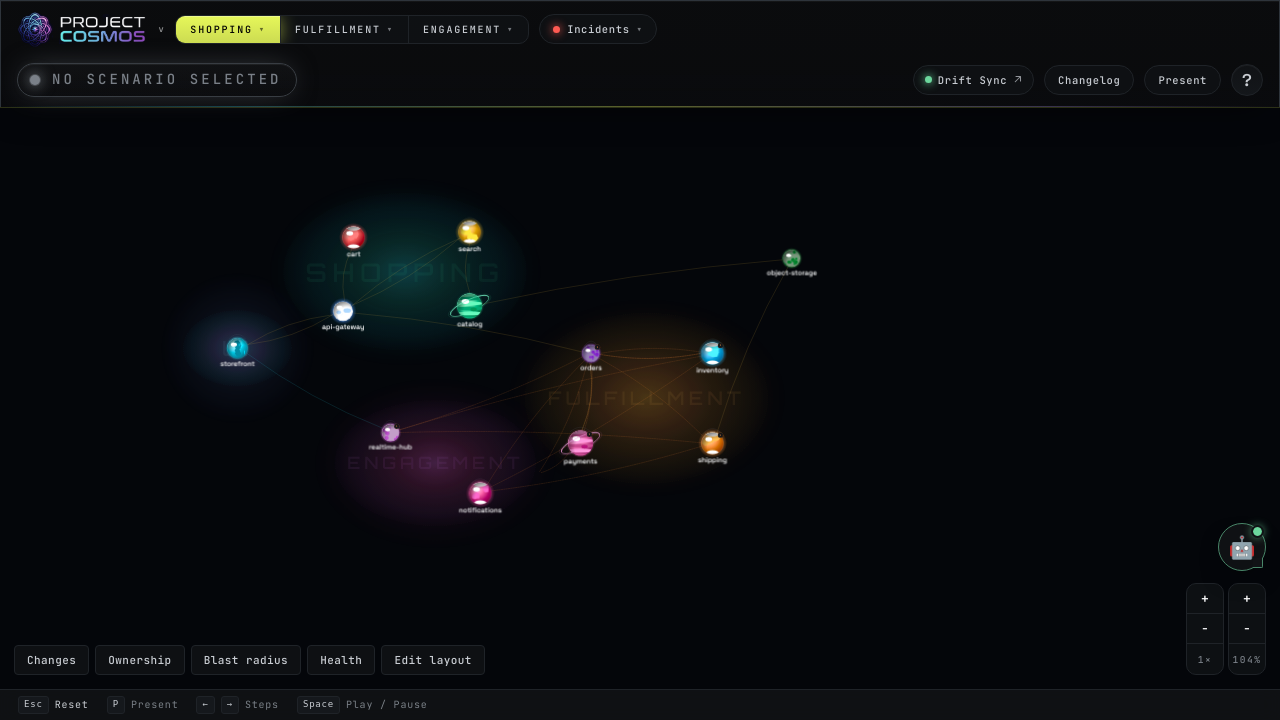
Test: Chat layout on desktop › reopening from the tab closes the step panel while the scenario keeps playing
The width and height of the screenshot is (1280, 720).
Click the button named "Open the agent chat" at [1242, 547], box [1218, 523, 1266, 571]
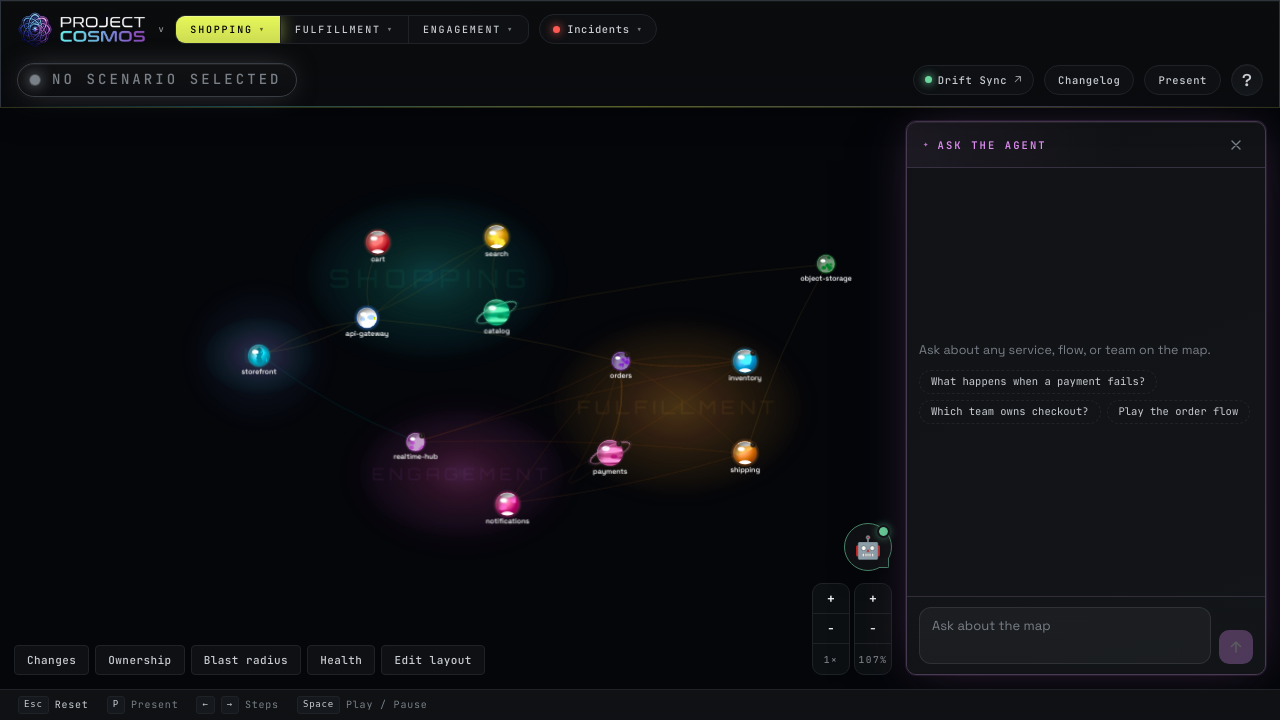
Type "Show me the order flow" into the text box named "Your question" at [1065, 636], box [919, 607, 1211, 664]
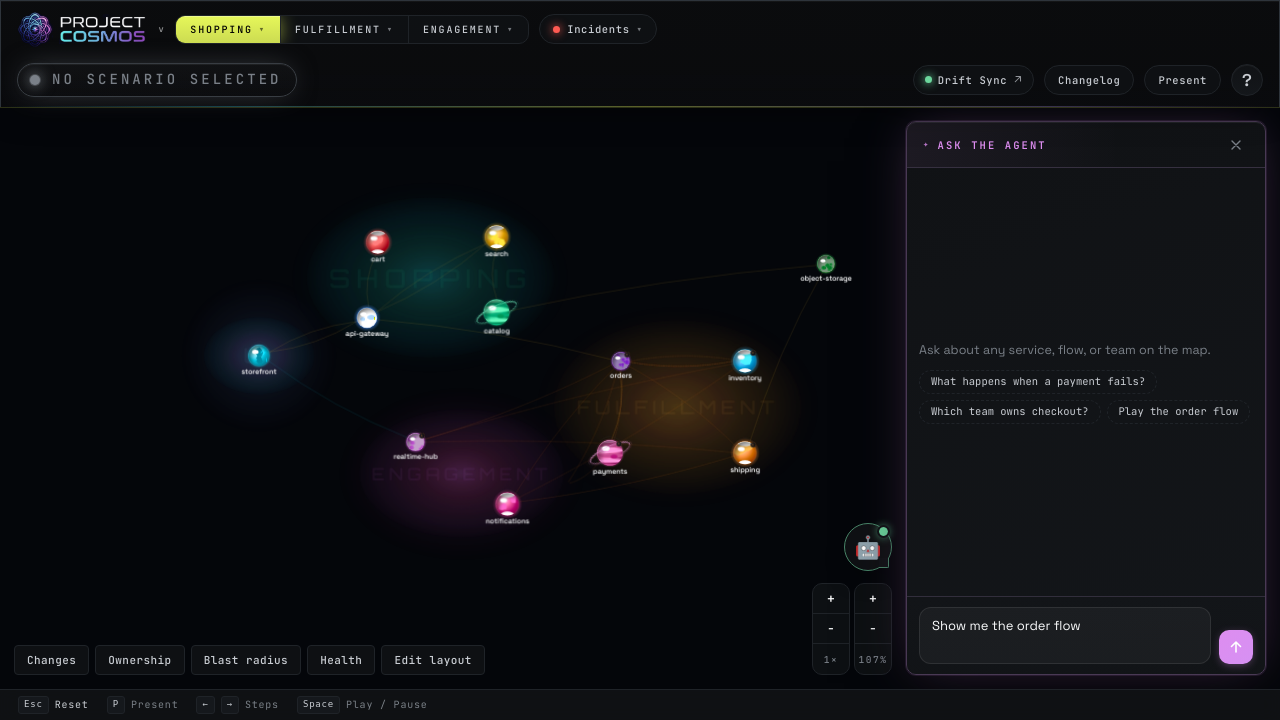
Click the button named "Send" at [1236, 647], box [1219, 630, 1253, 664]
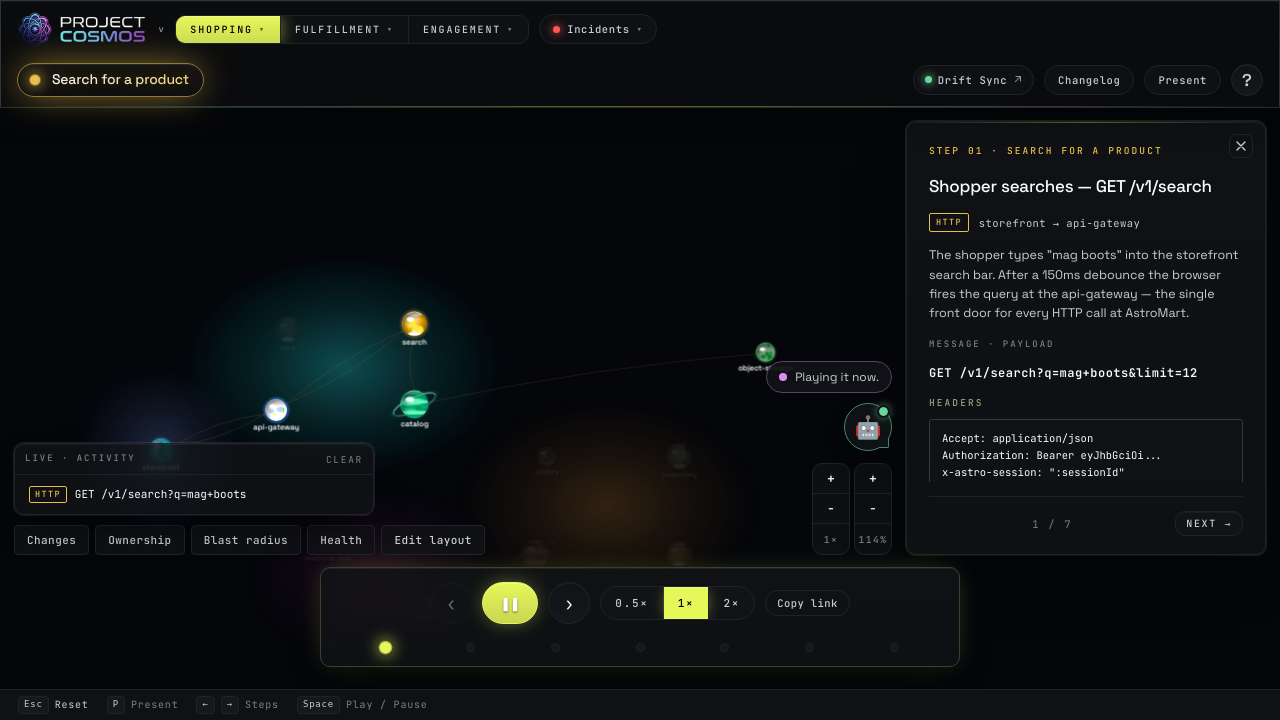
expect the button with class "lc-chat-tab" is shown: met
Click the button with aria-label "Reopen the agent chat" at [829, 377], box [766, 361, 892, 393]
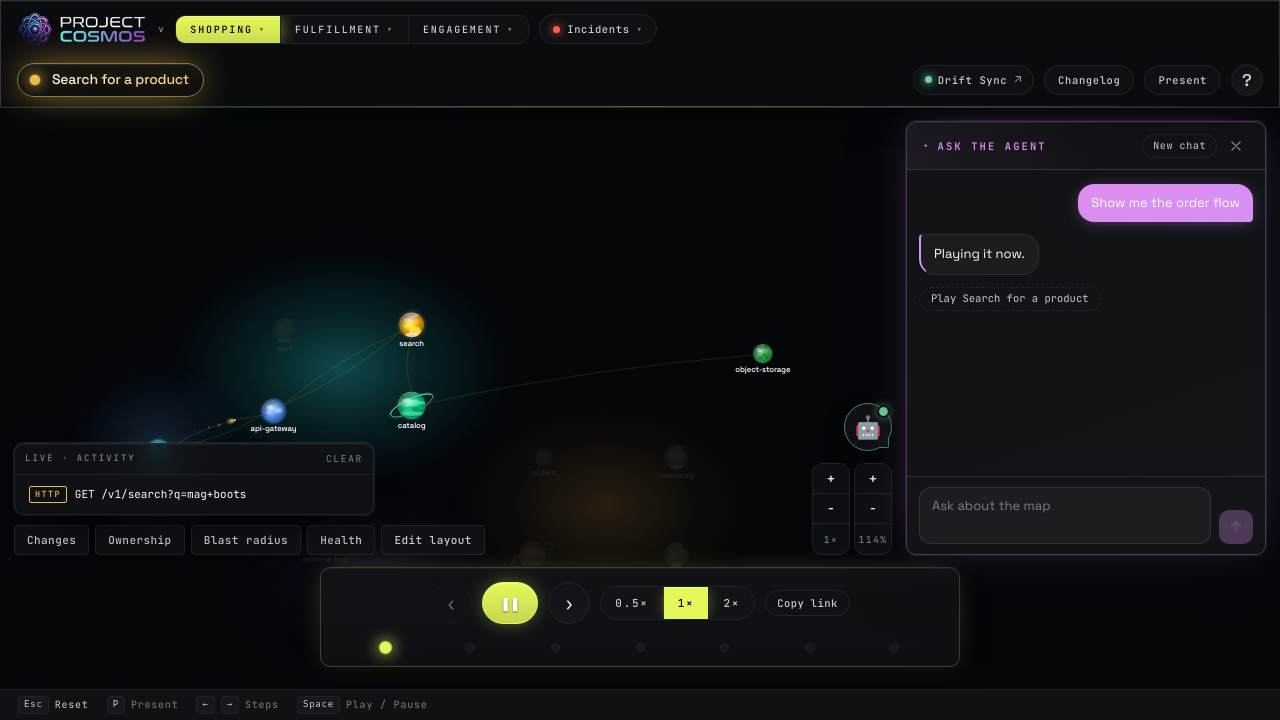
expect the element with class "lc-controls" is shown: met, box [320, 567, 960, 667]
expect the element with class "lc-chat-panel" is shown: met, box [906, 121, 1266, 555]
expect the element with class "lc-step-panel" is gone: met
